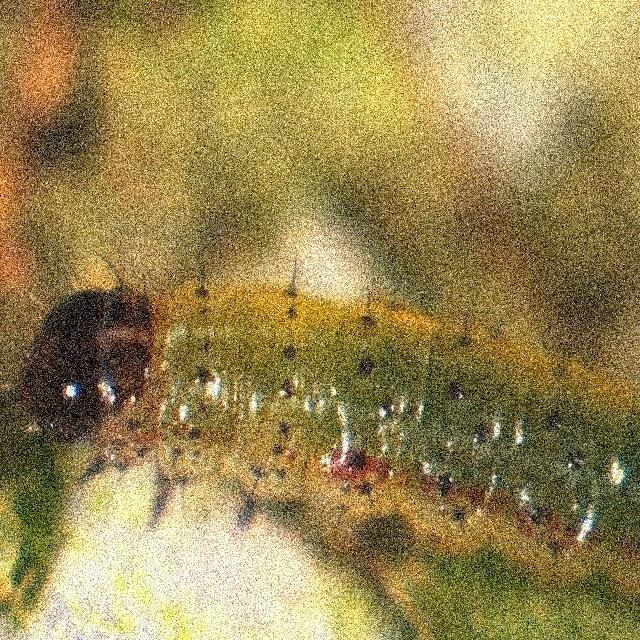worm: (15, 256, 640, 606)
